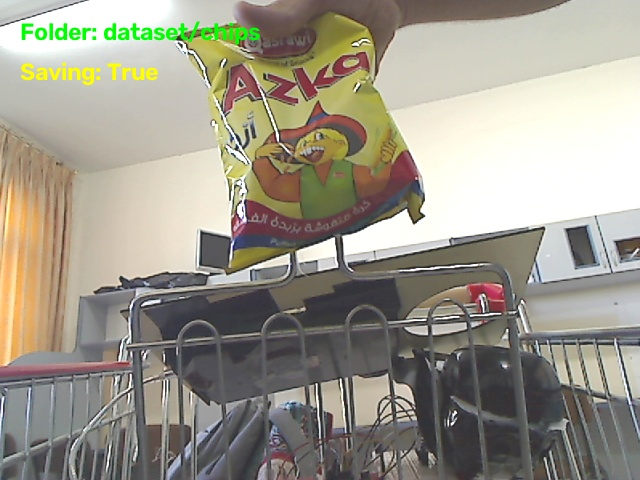chips: (177, 13, 423, 272)
